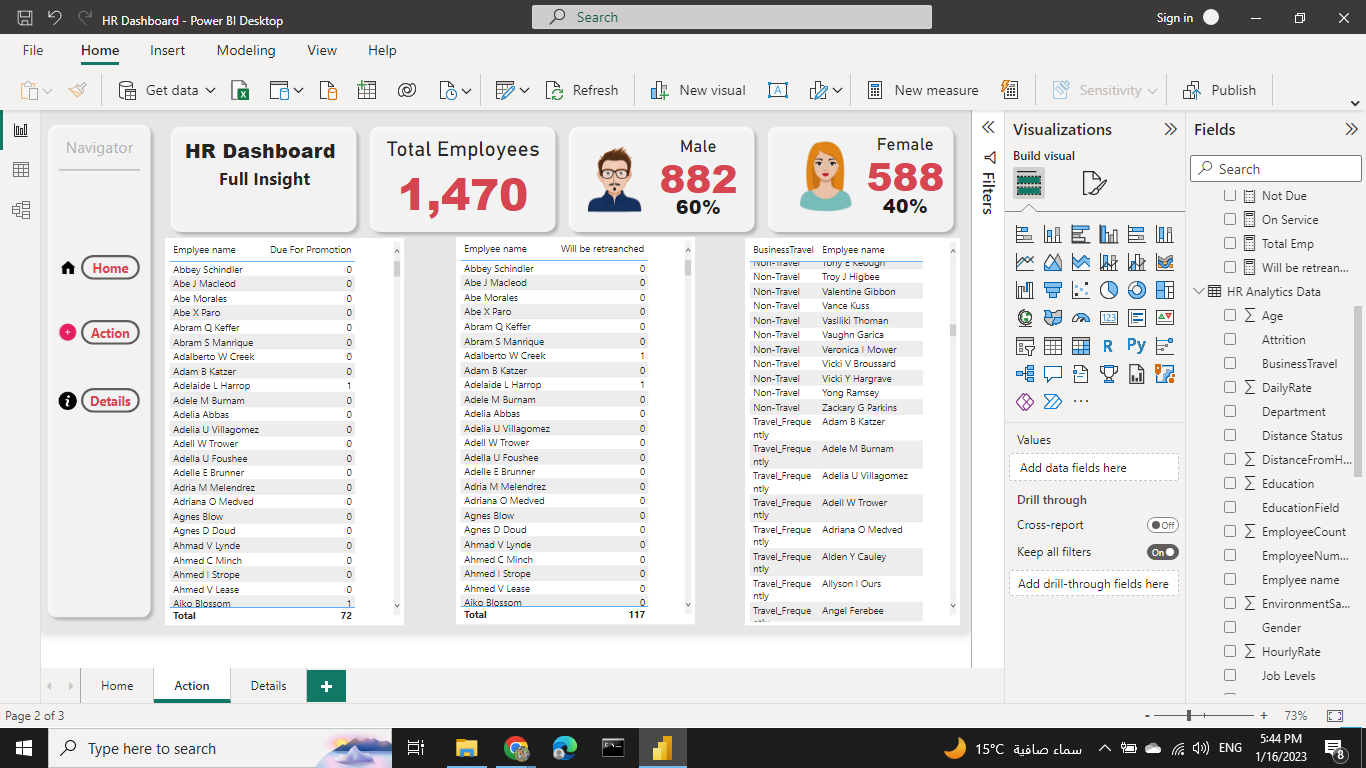

What the dashboard file says about the page in this screenshot:
{"tool":"powerbi","page":{"name":"Action","canvas":[1280,720],"ordinal":1},"visuals":[{"type":"shape","box":[169.7,13.4,273.8,162.9],"z":0},{"type":"shape","box":[443.5,13.4,273.8,162.9],"z":1000},{"type":"shape","box":[717.3,13.4,273.8,162.9],"z":2000},{"type":"shape","box":[991.1,13.4,273.8,162.9],"z":3000},{"type":"textbox","box":[193.2,31.9,228.5,48.7],"z":4000},{"type":"textbox","box":[226.8,72.2,161.3,47],"z":5000},{"type":"card","title":"Total Employees","fields":{"Values":["All Measures.Total Emp"]},"box":[467,35.3,228.5,119.3],"z":6000},{"type":"card","title":"Male","fields":{"Values":["All Measures.Male"]},"box":[841.6,35.3,127.7,84],"z":7000},{"type":"card","title":"Male","fields":{"Values":["All Measures.% Male"]},"box":[841.6,92.4,127.7,84],"z":8000},{"type":"card","title":"Female","fields":{"Values":["All Measures.Female"]},"box":[1125.4,33.5,127.7,84],"z":9000},{"type":"card","title":"Male","fields":{"Values":["All Measures.% Female"]},"box":[1125.4,90.6,127.7,84],"z":10000},{"type":"image","box":[735.7,38.6,105.8,112.5],"z":11000},{"type":"image","box":[1016.3,25.2,127.7,132.7],"z":12000},{"type":"tableEx","fields":{"Values":["HR Analytics Data.Emplyee name","All Measures.Due For Promotion"]},"box":[170.1,175.7,328.8,532.9],"z":13000},{"type":"tableEx","fields":{"Values":["HR Analytics Data.Emplyee name","All Measures.Will be retreanched"]},"box":[576.7,174.8,328.9,532.6],"z":14000},{"type":"shape","box":[0,11.3,160.2,695.9],"z":15000},{"type":"actionButton","box":[55.3,199.8,80.8,34],"z":16000},{"type":"textbox","box":[28.3,31.2,119.1,49.6],"z":17000},{"type":"shape","box":[24.1,45.4,112,73.7],"z":18000},{"type":"actionButton","box":[55.3,289.1,80.8,34],"z":19000},{"type":"actionButton","box":[55.3,382.7,80.8,34],"z":20000},{"type":"image","box":[19.8,199.8,35.4,34],"z":21000},{"type":"image","box":[19.8,282,35.4,46.8],"z":22000},{"type":"image","box":[19.8,379.8,35.4,41.1],"z":23000},{"type":"tableEx","fields":{"Values":["HR Analytics Data.BusinessTravel","HR Analytics Data.Emplyee name"]},"box":[991,176,274,533],"z":23001}]}

Visuals, with their boxes on the page's 1280x720 design canvas (x1, y1, x2, y2). These are canvas units, not pixel positions in the 1366x768 screenshot, which may show the page scaled, cropped or inside an application window:
shape: (170,13,444,176)
shape: (444,13,717,176)
shape: (717,13,991,176)
shape: (991,13,1265,176)
textbox: (193,32,422,81)
textbox: (227,72,388,119)
"Total Employees" card: (467,35,696,155)
"Male" card: (842,35,969,119)
"Male" card: (842,92,969,176)
"Female" card: (1125,34,1253,118)
"Male" card: (1125,91,1253,175)
image: (736,39,842,151)
image: (1016,25,1144,158)
tableEx - HR Analytics Data.Emplyee name x All Measures.Due For Promotion: (170,176,499,709)
tableEx - HR Analytics Data.Emplyee name x All Measures.Will be retreanched: (577,175,906,707)
shape: (0,11,160,707)
actionButton: (55,200,136,234)
textbox: (28,31,147,81)
shape: (24,45,136,119)
actionButton: (55,289,136,323)
actionButton: (55,383,136,417)
image: (20,200,55,234)
image: (20,282,55,329)
image: (20,380,55,421)
tableEx - HR Analytics Data.BusinessTravel x HR Analytics Data.Emplyee name: (991,176,1265,709)
